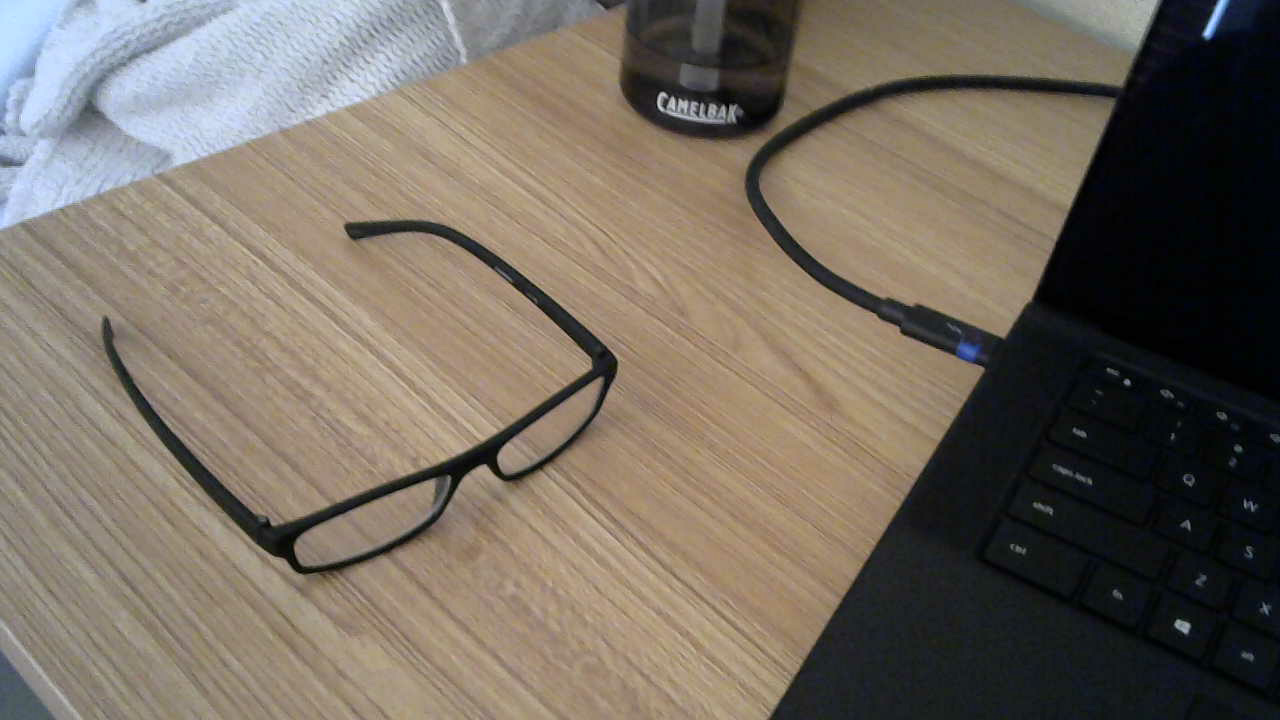Glasses: (82, 227, 635, 587)
